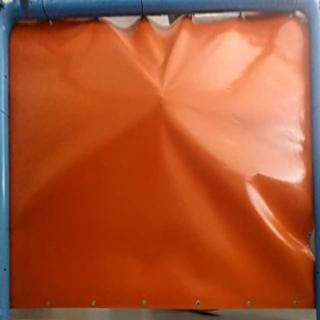Hit-hRxx: (151, 88, 170, 108)
